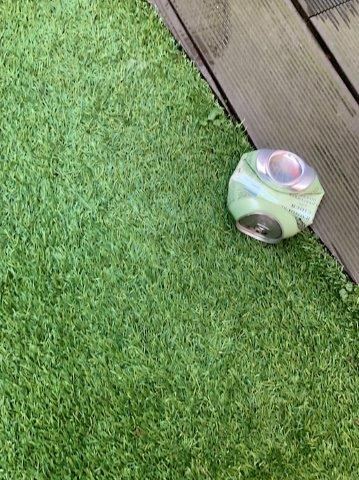kaleng: (228, 150, 324, 243)
